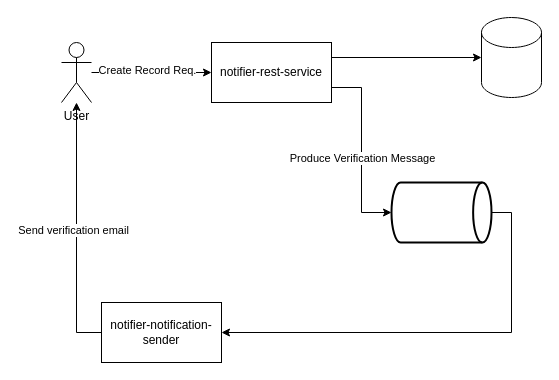
Image size: 559x380. Some labels were removed from this diagram. Each missing label, with the centre of its shape:
"MongoDB" belongs at point 511,57.
"RabbitMQ" belongs at point 441,212.
